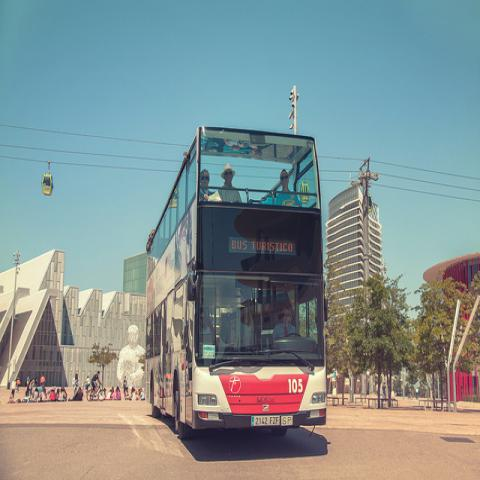bus: (142, 124, 320, 430)
